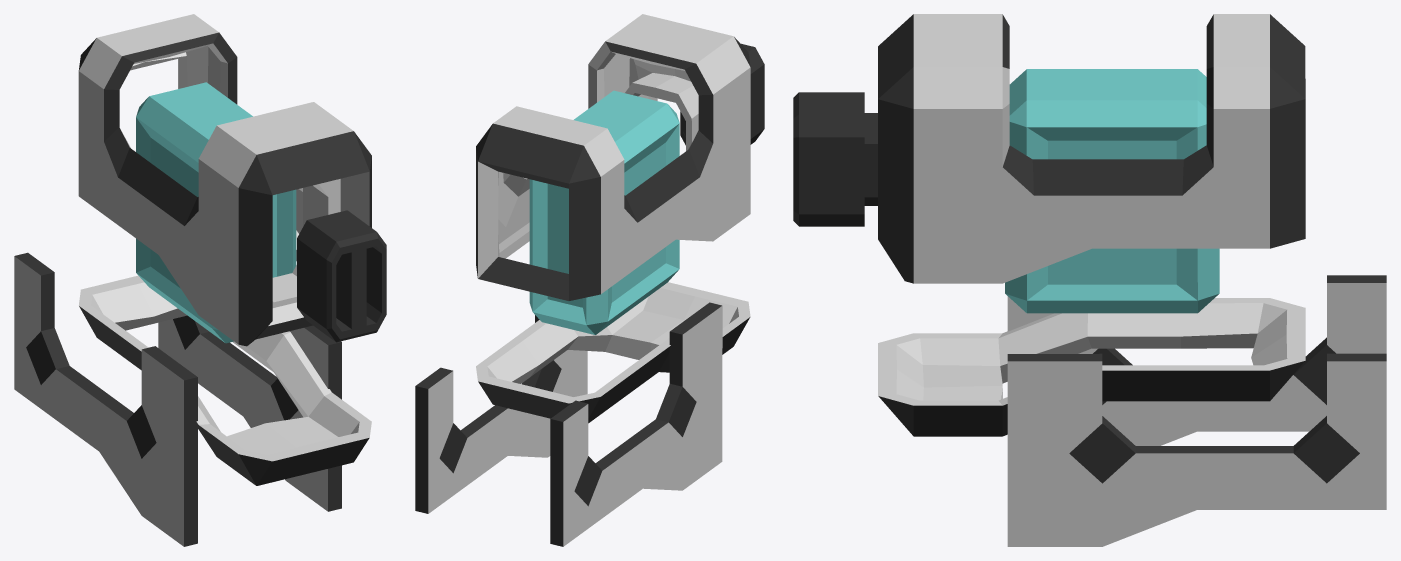
File: PlasmaTurret_FBX.fbx
3 views of the same model, side by side, from view 1: azimuth 30°, elevation 25°; view 2: azimuth 150°, elevation 25°; view 3: azimuth 270°, elevation 25° (orthographic). The views are drawn at different scales.
Visible parts, largest first — view 1: Cube, Cube.004, Cube.002, Cube.001, Cube.003; view 2: Cube, Cube.004, Cube.002, Cube.001, Cube.003; view 3: Cube, Cube.004, Cube.002, Cube.001, Cube.003.
Boxes of the visible parts, box(x1,y1,x2,y2) form: Cube: box(78, 14, 371, 346); Cube.004: box(14, 252, 341, 546); Cube.002: box(78, 275, 371, 485); Cube.001: box(136, 82, 296, 343); Cube.003: box(297, 210, 386, 342); Cube: box(476, 14, 750, 300); Cube.004: box(415, 302, 722, 546); Cube.002: box(476, 282, 750, 423); Cube.001: box(529, 90, 679, 334); Cube.003: box(680, 43, 764, 145); Cube: box(878, 14, 1305, 283); Cube.004: box(1007, 275, 1386, 546); Cube.002: box(878, 298, 1305, 436); Cube.001: box(1005, 69, 1219, 313); Cube.003: box(793, 92, 877, 226).
Size of the model in its own units: 155 by 390 by 452.
